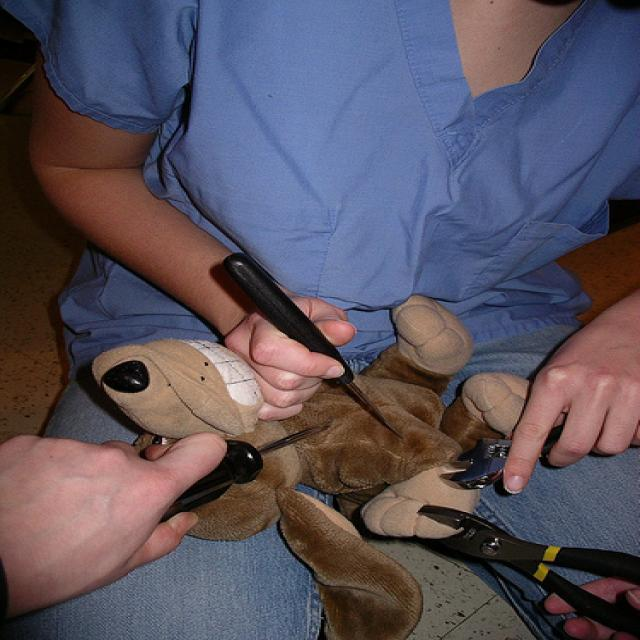pliers: (389, 502, 640, 626)
screwdriver: (217, 248, 410, 446), (115, 418, 344, 534)
wrench: (447, 398, 640, 489)
